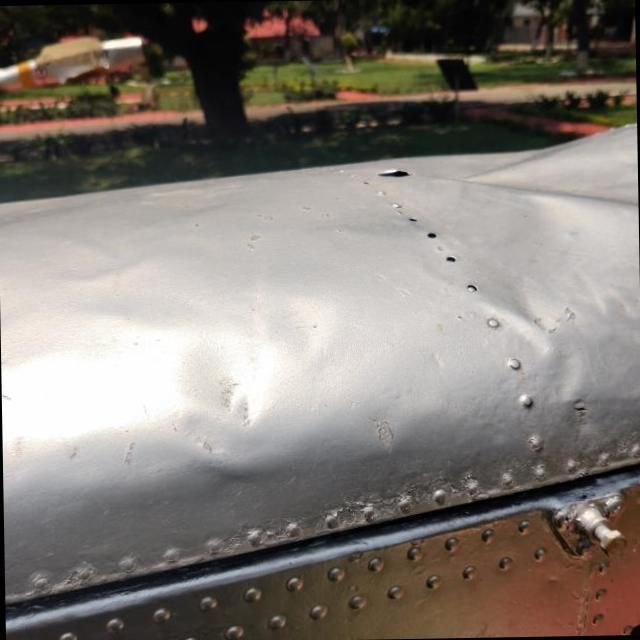Dent: (472, 263, 598, 364), (188, 438, 286, 526)
Fastener Damage: (431, 242, 469, 276), (414, 218, 449, 252), (398, 205, 428, 234)
